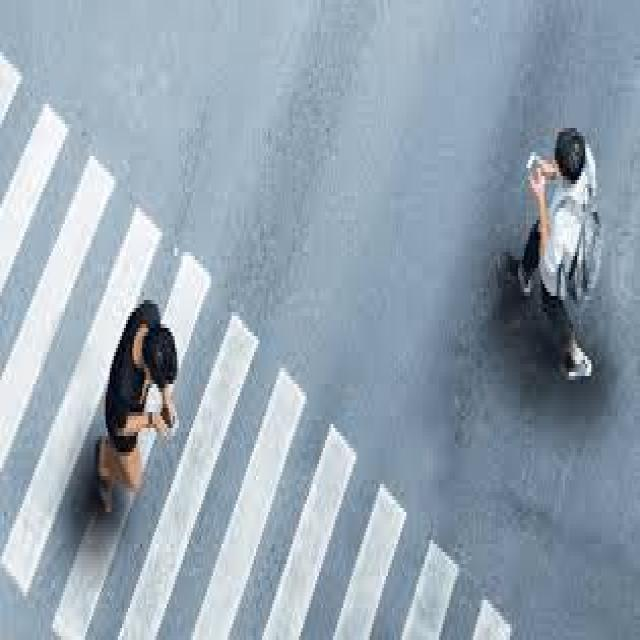Pedestrians: (516, 124, 606, 388), (93, 296, 175, 520)
